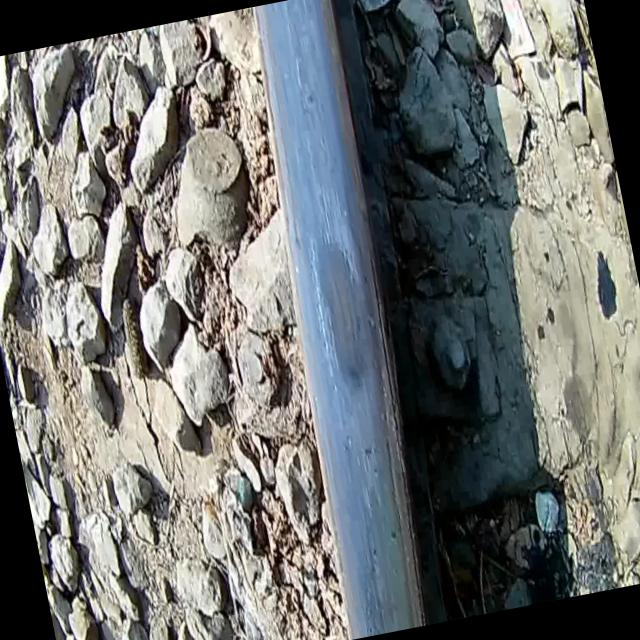Squats: (203, 0, 481, 640)
